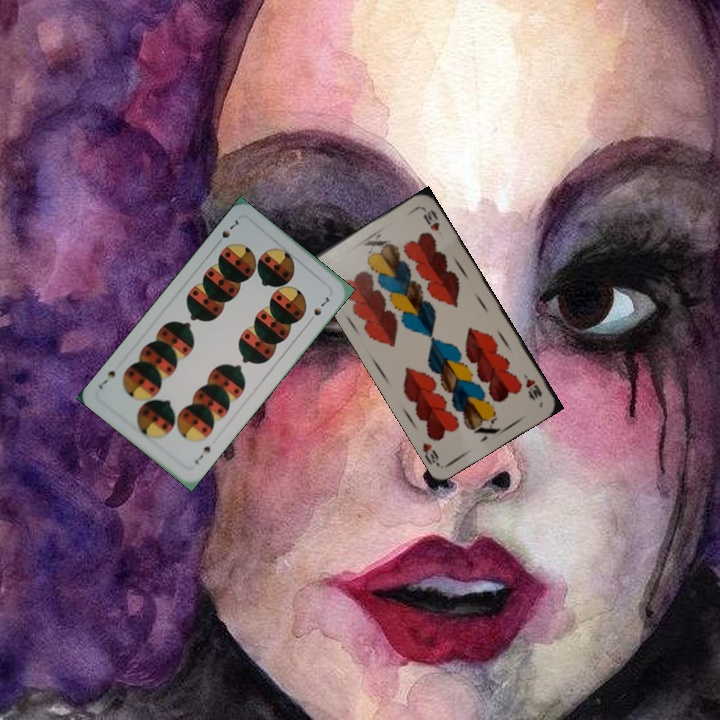H10: (519, 370, 545, 401)
S7: (212, 215, 244, 248), (191, 442, 214, 467)
